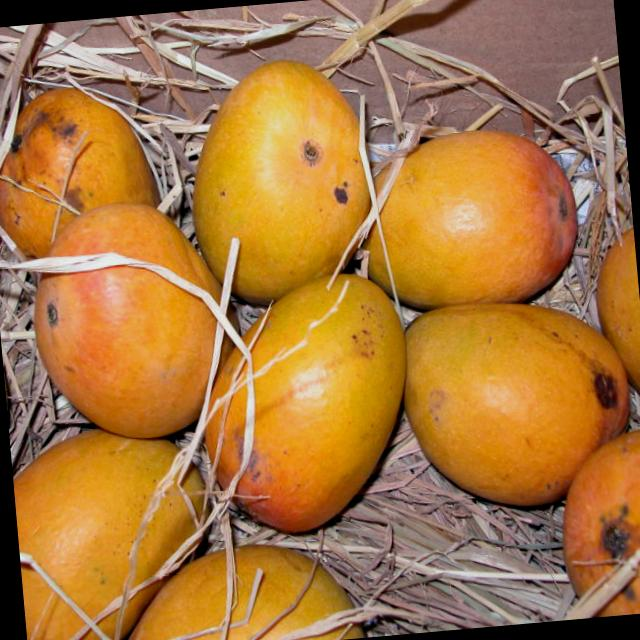onion: (188, 268, 418, 536), (16, 190, 241, 439), (397, 275, 640, 505), (179, 53, 381, 310), (352, 124, 584, 318)
